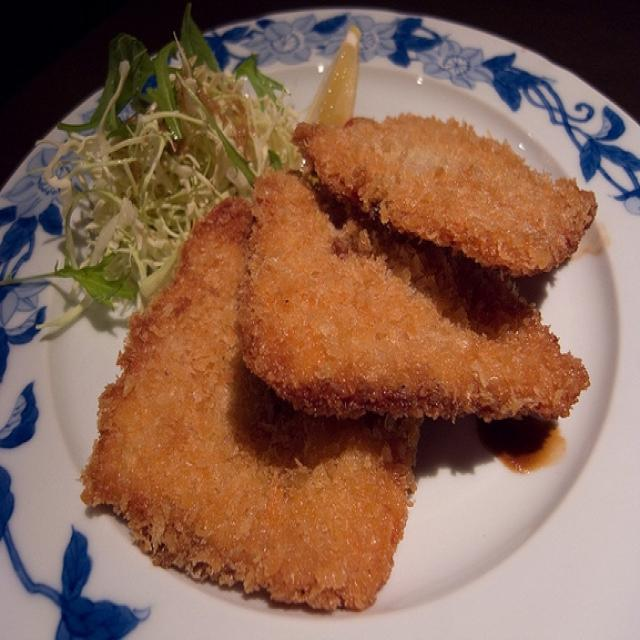炸货点心: (58, 82, 591, 610)
